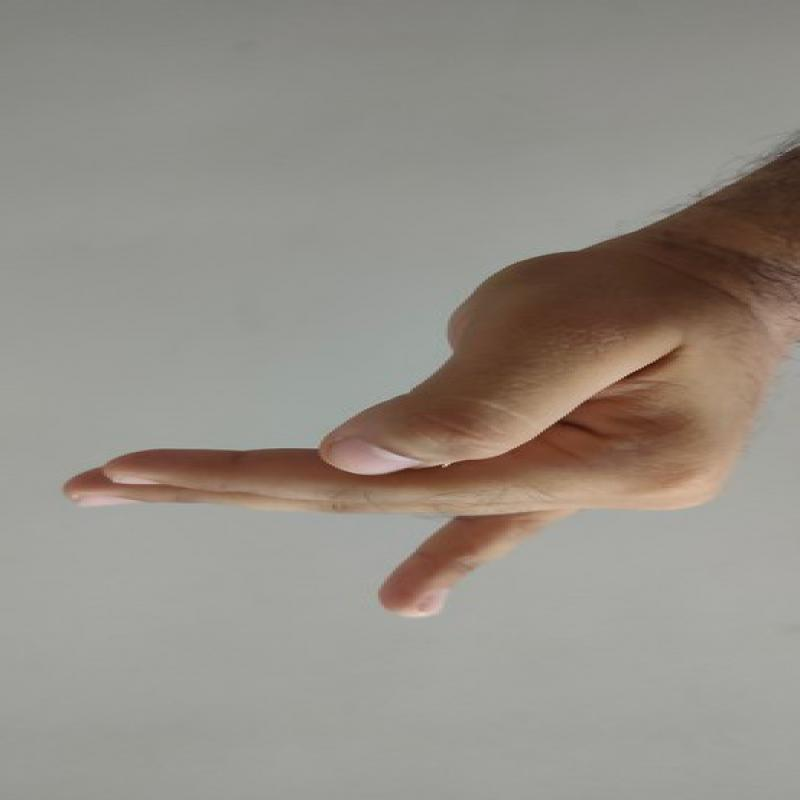Kartharee Mukham: (51, 241, 776, 629)
